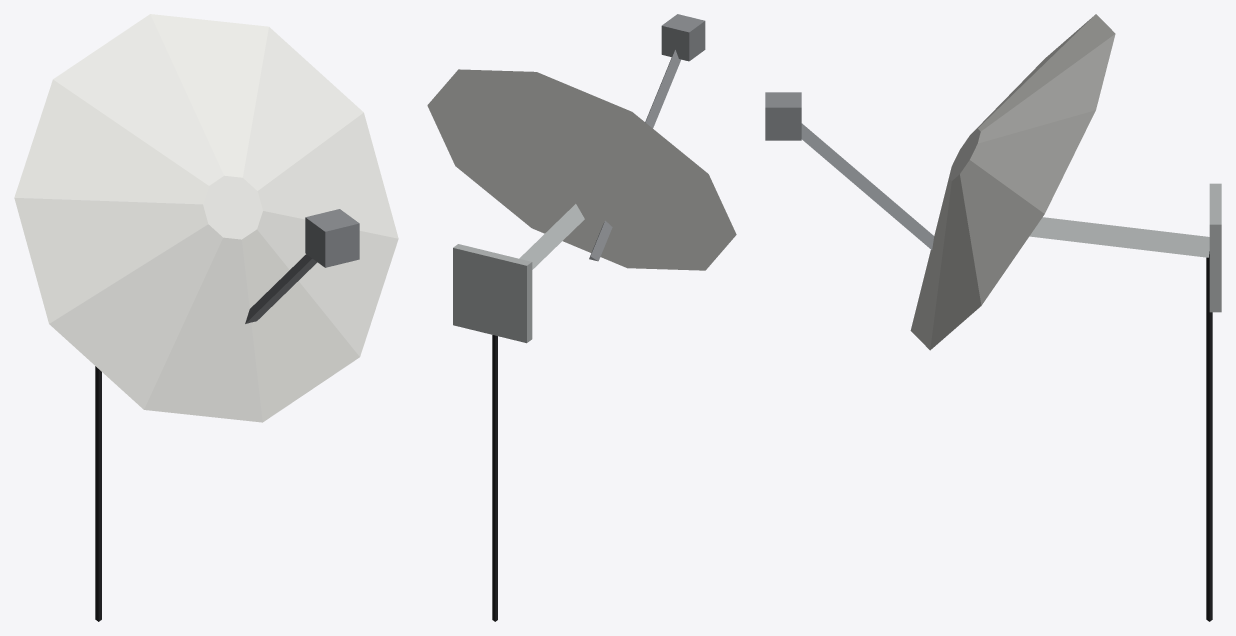
Rendered from satellite_dish.glb.
3 views of the same model, side by side, from view 1: azimuth 30°, elevation 25°; view 2: azimuth 150°, elevation 25°; view 3: azimuth 270°, elevation 25° (orthographic). The views are drawn at different scales.
Parts seen in each view (by area): view 1: satellite_dish; view 2: satellite_dish; view 3: satellite_dish.
Part boxes in pixels (<box>): satellite_dish: <box>14,14,398,621</box>; satellite_dish: <box>427,14,736,621</box>; satellite_dish: <box>765,14,1221,621</box>.
Size of the model in its own units: 0.6087 by 1.07 by 0.755.
Materials: 1 (1 with a texture image).
